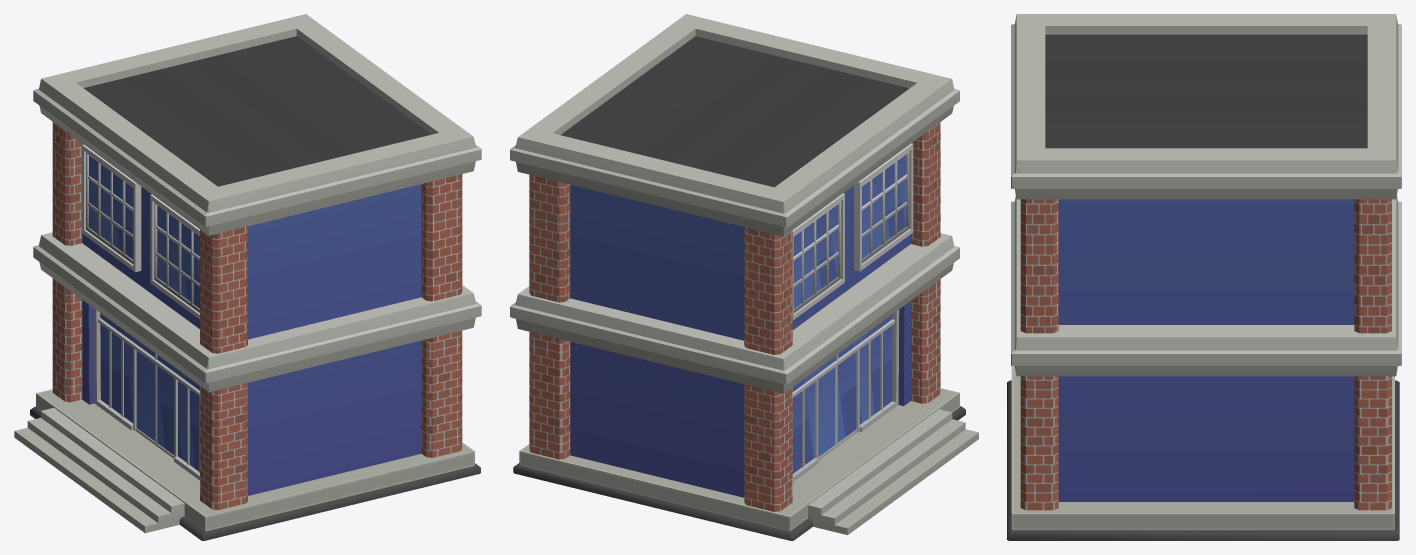
File: Building_9_2_E.glb
3 views of the same model, side by side, from view 1: azimuth 30°, elevation 25°; view 2: azimuth 150°, elevation 25°; view 3: azimuth 270°, elevation 25° (orthographic). The views are drawn at different scales.
Visible parts, largest first — view 1: Building_9_2_E; view 2: Building_9_2_E; view 3: Building_9_2_E.
Part boxes in pixels (x1,y1,x2,y2): Building_9_2_E: (14, 14, 481, 540); Building_9_2_E: (510, 14, 978, 540); Building_9_2_E: (1007, 14, 1401, 540).
Size of the model in its own units: 9.47 by 9.58 by 9.06.
4 materials, 4 textured.
